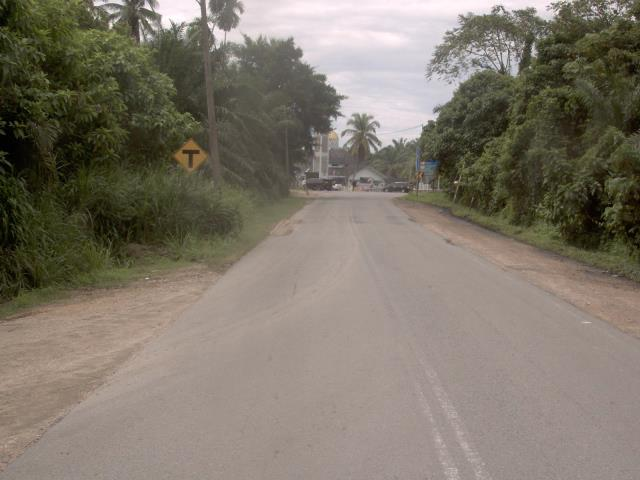traffic_sign: (165, 130, 214, 178)
